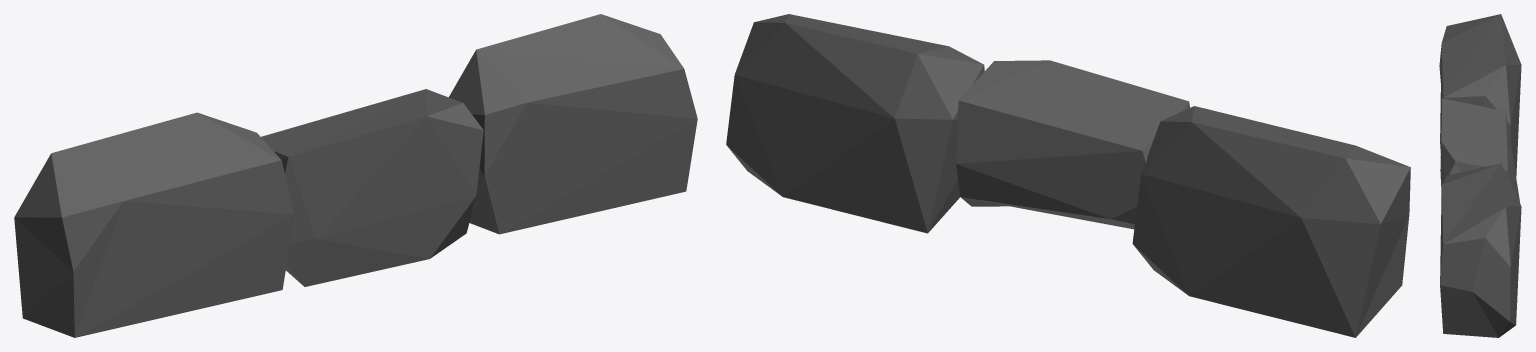
File: foundation_005.glb
3 renders of one model, left to right at view 1: azimuth 30°, elevation 25°; view 2: azimuth 150°, elevation 25°; view 3: azimuth 270°, elevation 25°, orthographic. The views are drawn at different scales.
Visible parts, largest first — view 1: foundation_005; view 2: foundation_005; view 3: foundation_005.
Boxes of the visible parts, x1,y1,x2,y2 form: foundation_005: [14, 14, 697, 337]; foundation_005: [726, 14, 1410, 337]; foundation_005: [1439, 14, 1521, 337].
Bounding box in the file's own units: 6.28 × 1.56 × 0.9564.
1 material, 1 textured.
